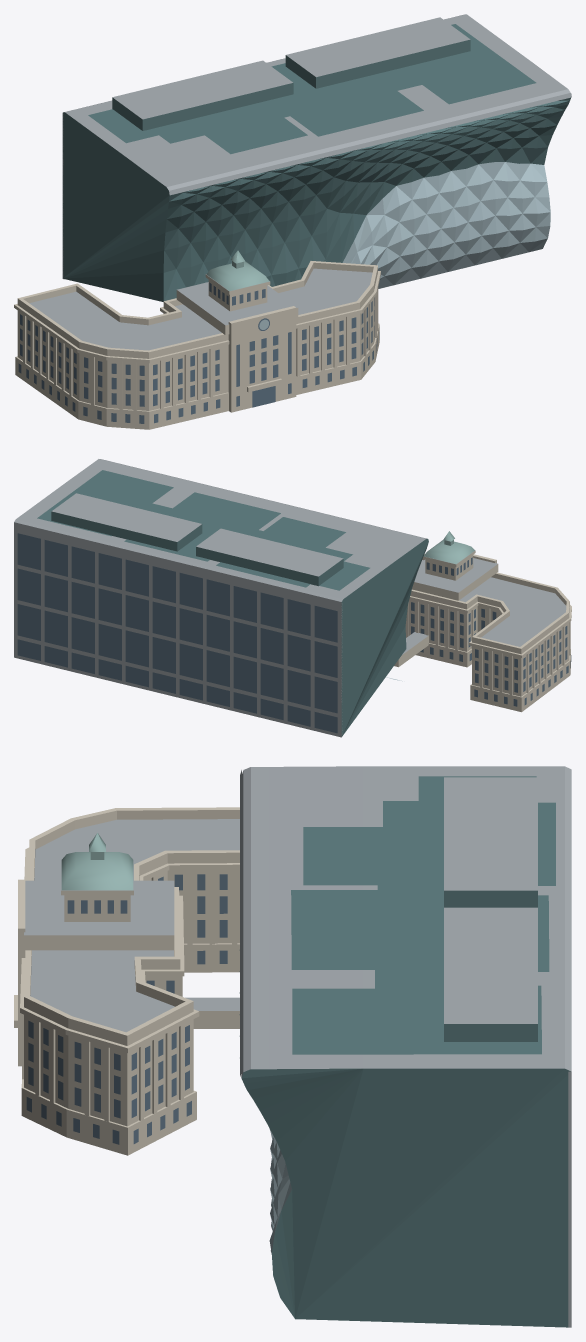
File: seoul-city-hall.glb
3 views of the same model, one above another, from view 1: azimuth 30°, elevation 25°; view 2: azimuth 150°, elevation 25°; view 3: azimuth 270°, elevation 25° (orthographic). The views are drawn at different scales.
Visible parts, largest first — view 1: Seoul City Hall; view 2: Seoul City Hall; view 3: Seoul City Hall.
Boxes of the visible parts, x1,y1,x2,y2 form: Seoul City Hall: (14,14,571,429); Seoul City Hall: (14,459,571,737); Seoul City Hall: (14,766,571,1327).
Bounding box in the file's own units: 142 × 45.6 × 83.16.
